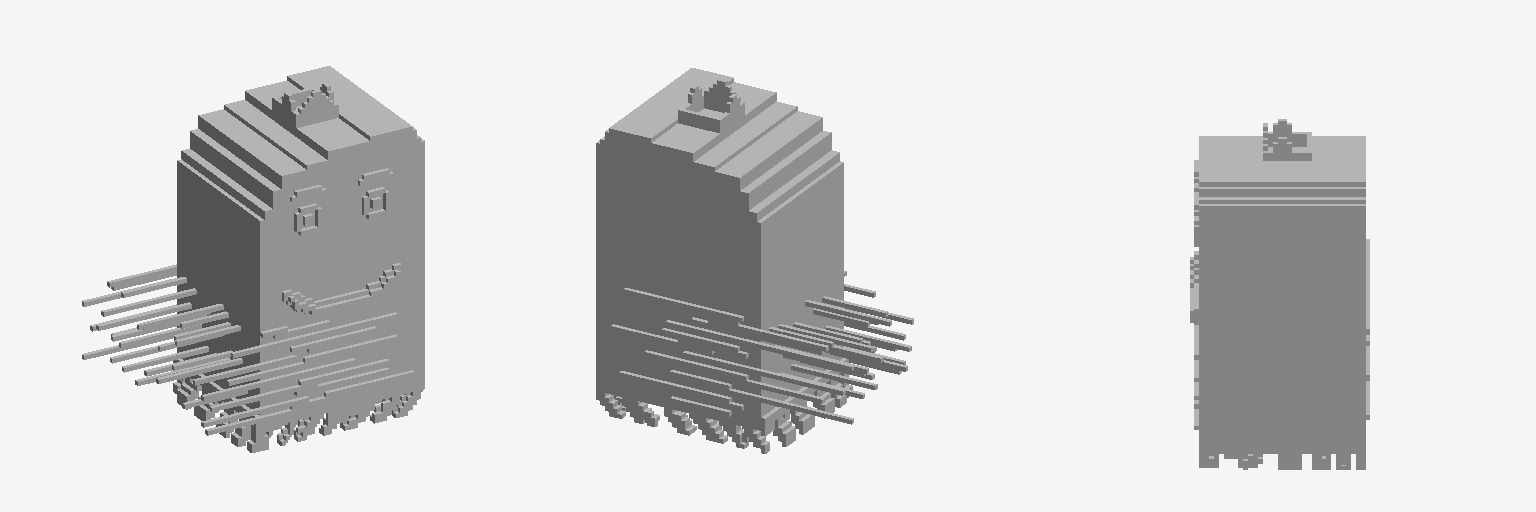
Rendered from ghost an 3.obj.
The picture shows the model from 3 angles: view 1: azimuth 30°, elevation 25°; view 2: azimuth 150°, elevation 25°; view 3: azimuth 270°, elevation 25°; orthographic projection.
Parts seen in each view (by area): view 1: object 1; view 2: object 1; view 3: object 1.
Boxes of the visible parts, <box> form: object 1: <box>82,66,424,452</box>; object 1: <box>596,68,913,453</box>; object 1: <box>1190,119,1369,469</box>.
Bounding box in the file's own units: 6.1 × 7.1 × 3.7.